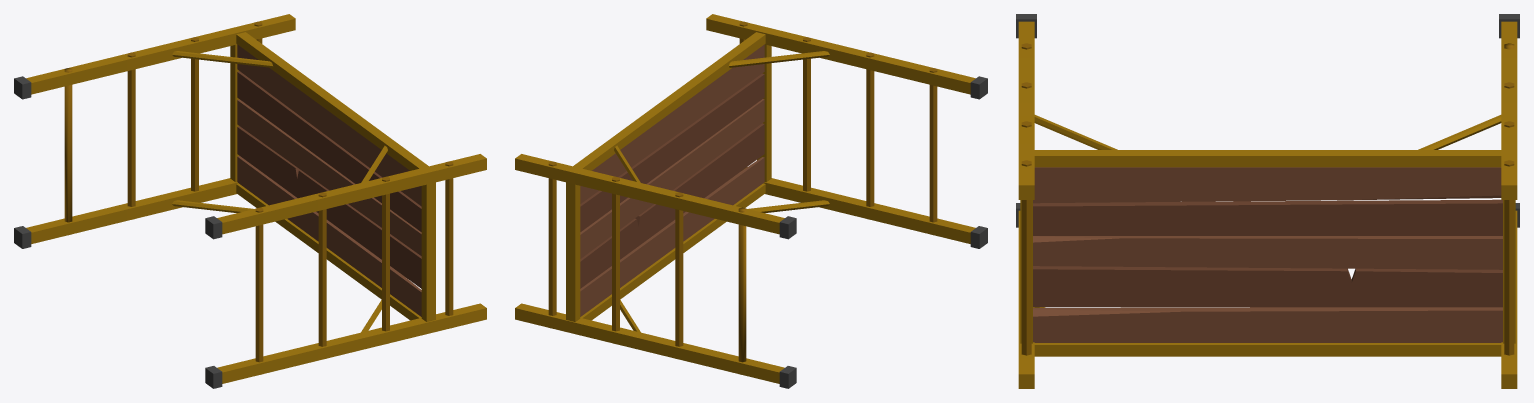
Rendered from ScafHoldingBroke.fbx.
The picture shows the model from 3 angles, left to right: view 1: azimuth 30°, elevation 25°; view 2: azimuth 150°, elevation 25°; view 3: azimuth 270°, elevation 25°; orthographic projection. The views are drawn at different scales.
Visible parts, largest first — view 1: Scaffolding_01__2__fracturepart15_4, Scaffolding_01__2__fracturepart22_3, Scaffolding_01__2__fracturepart1, Scaffolding_01__2__fracturepart1_2, Scaffolding_01__2__fracturepart11_2, Scaffolding_01__2__fracturepart14_4, Scaffolding_01__2__fracturepart3_3, Scaffolding_01__2__fracturepart, Scaffolding_01__2__fracturepart10_5, Scaffolding_01__2__fracturepart18_2, Scaffolding_01__2__fracturepart18_3, Scaffolding_01__2__fracturepart11_4 (+51 smaller); view 2: Scaffolding_01__2__fracturepart25_4, Scaffolding_01__2__fracturepart15_4, Scaffolding_01__2__fracturepart1, Scaffolding_01__2__fracturepart1_2, Scaffolding_01__2__fracturepart11_2, Scaffolding_01__2__fracturepart, Scaffolding_01__2__fracturepart3_3, Scaffolding_01__2__fracturepart17_2, Scaffolding_01__2__fracturepart18_2, Scaffolding_01__2__fracturepart11_4, Scaffolding_01__2__fracturepart22_3, Scaffolding_01__2__fracturepart18_3 (+48 smaller); view 3: Scaffolding_01__2__fracturepart3_3, Scaffolding_01__2__fracturepart8_2, Scaffolding_01__2__fracturepart10_5, Scaffolding_01__2__fracturepart6, Scaffolding_01__2__fracturepart9, Scaffolding_01__2__fracturepart13, Scaffolding_01__2__fracturepart21, Scaffolding_01__2__fracturepart9_5, Scaffolding_01__2__fracturepart2_4, Scaffolding_01__2__fracturepart8, Scaffolding_01__2__fracturepart24_4, Scaffolding_01__2__fracturepart7_6 (+57 smaller).
Boxes of the visible parts, bbox=[...] form: Scaffolding_01__2__fracturepart15_4: bbox=[305, 154, 486, 210]; Scaffolding_01__2__fracturepart22_3: bbox=[354, 303, 486, 349]; Scaffolding_01__2__fracturepart1: bbox=[14, 55, 127, 99]; Scaffolding_01__2__fracturepart1_2: bbox=[14, 208, 110, 248]; Scaffolding_01__2__fracturepart11_2: bbox=[263, 334, 360, 371]; Scaffolding_01__2__fracturepart14_4: bbox=[99, 183, 236, 227]; Scaffolding_01__2__fracturepart3_3: bbox=[251, 136, 305, 194]; Scaffolding_01__2__fracturepart: bbox=[64, 68, 72, 222]; Scaffolding_01__2__fracturepart10_5: bbox=[252, 83, 301, 143]; Scaffolding_01__2__fracturepart18_2: bbox=[205, 357, 272, 388]; Scaffolding_01__2__fracturepart18_3: bbox=[255, 210, 263, 362]; Scaffolding_01__2__fracturepart11_4: bbox=[318, 218, 326, 346]; Scaffolding_01__2__fracturepart25_4: bbox=[515, 303, 704, 362]; Scaffolding_01__2__fracturepart15_4: bbox=[706, 14, 888, 67]; Scaffolding_01__2__fracturepart1: bbox=[683, 195, 796, 239]; Scaffolding_01__2__fracturepart1_2: bbox=[699, 348, 796, 388]; Scaffolding_01__2__fracturepart11_2: bbox=[832, 194, 927, 232]; Scaffolding_01__2__fracturepart: bbox=[738, 207, 746, 362]; Scaffolding_01__2__fracturepart3_3: bbox=[591, 212, 645, 275]; Scaffolding_01__2__fracturepart17_2: bbox=[617, 179, 690, 210]; Scaffolding_01__2__fracturepart18_2: bbox=[923, 216, 987, 248]; Scaffolding_01__2__fracturepart11_4: bbox=[866, 78, 874, 206]; Scaffolding_01__2__fracturepart22_3: bbox=[763, 178, 838, 210]; Scaffolding_01__2__fracturepart18_3: bbox=[929, 69, 937, 222]; Scaffolding_01__2__fracturepart3_3: bbox=[1334, 268, 1466, 307]; Scaffolding_01__2__fracturepart8_2: bbox=[1215, 267, 1334, 307]; Scaffolding_01__2__fracturepart10_5: bbox=[1341, 200, 1463, 235]; Scaffolding_01__2__fracturepart6: bbox=[1185, 307, 1295, 342]; Scaffolding_01__2__fracturepart9: bbox=[1118, 167, 1217, 202]; Scaffolding_01__2__fracturepart13: bbox=[1288, 307, 1392, 342]; Scaffolding_01__2__fracturepart21: bbox=[1281, 167, 1387, 200]; Scaffolding_01__2__fracturepart9_5: bbox=[1131, 201, 1224, 235]; Scaffolding_01__2__fracturepart2_4: bbox=[1218, 201, 1313, 235]; Scaffolding_01__2__fracturepart8: bbox=[1216, 241, 1334, 268]; Scaffolding_01__2__fracturepart24_4: bbox=[1142, 267, 1215, 307]; Scaffolding_01__2__fracturepart7_6: bbox=[1042, 202, 1141, 235].
Size of the model in its own units: 250 by 143 by 315.
1 material, 1 textured.
